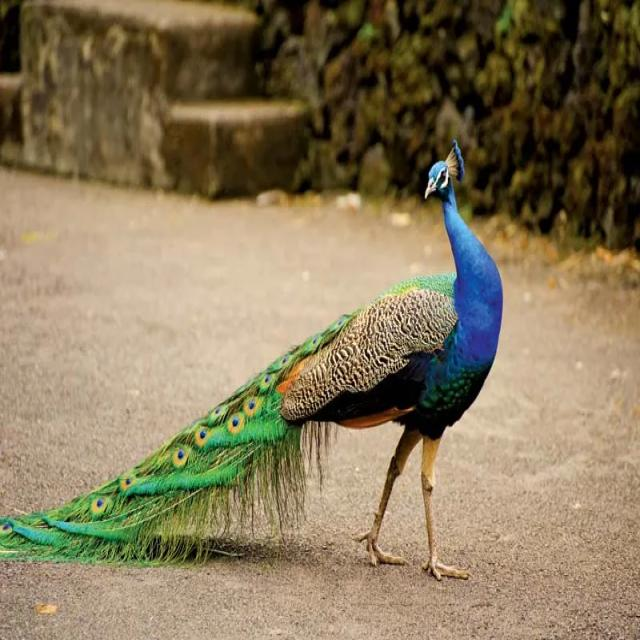peacock: (0, 129, 521, 592)
